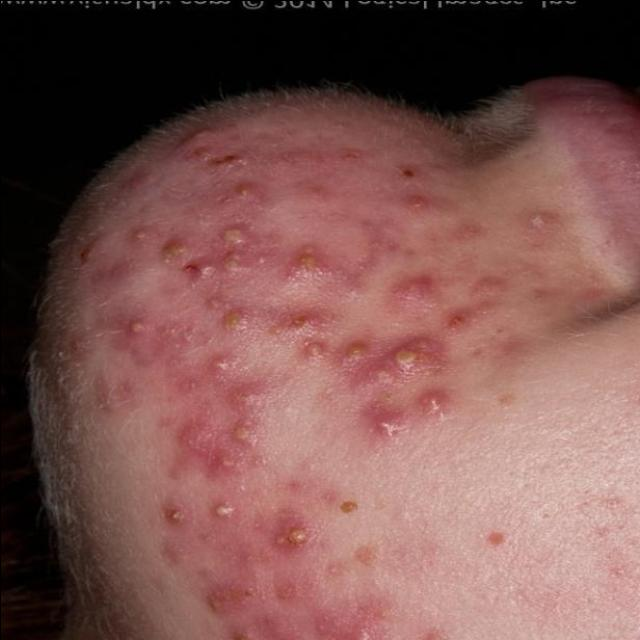pustule: (85, 143, 530, 500), (155, 472, 383, 615)
